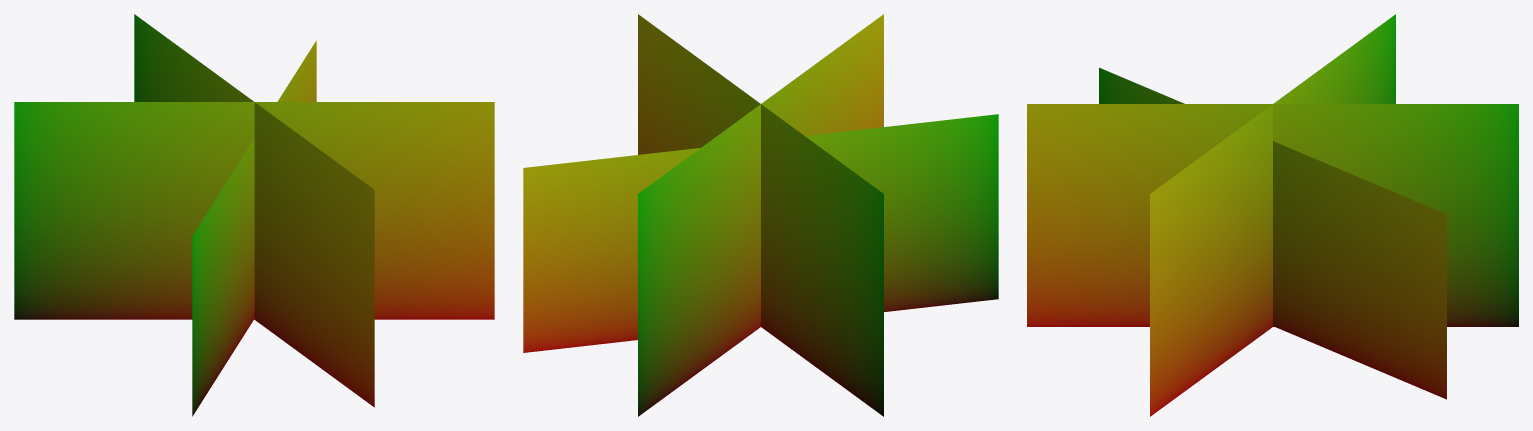
Rendered from grass1_2.fbx.
3 views of the same model, side by side, from view 1: azimuth 30°, elevation 25°; view 2: azimuth 150°, elevation 25°; view 3: azimuth 270°, elevation 25° (orthographic). The views are drawn at different scales.
Parts seen in each view (by area): view 1: grass1; view 2: grass1; view 3: grass1.
Boxes of the visible parts, x1=… form: grass1: x1=14, y1=14, x2=494, y2=416; grass1: x1=523, y1=14, x2=998, y2=416; grass1: x1=1027, y1=14, x2=1518, y2=416.
Bounding box in the file's own units: 176 × 102 × 203.
